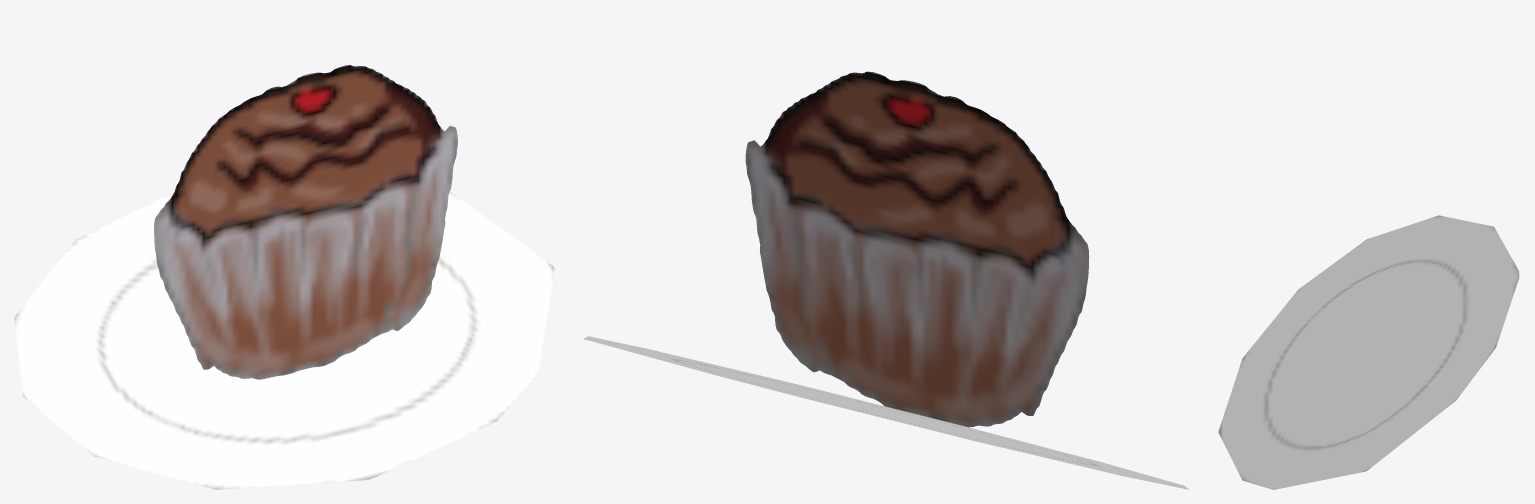
The model's file is giftgoods041b.fbx.
3 views of the same model, side by side, from view 1: azimuth 30°, elevation 25°; view 2: azimuth 150°, elevation 25°; view 3: azimuth 270°, elevation 25° (orthographic). The views are drawn at different scales.
Parts seen in each view (by area): view 1: giftgoods041b; view 2: giftgoods041b; view 3: giftgoods041b.
Boxes of the visible parts, bbox=[...] form: giftgoods041b: bbox=[14, 65, 554, 489]; giftgoods041b: bbox=[584, 71, 1189, 489]; giftgoods041b: bbox=[1218, 215, 1519, 489].
Size of the model in its own units: 0.3876 by 0.2621 by 0.2135.
